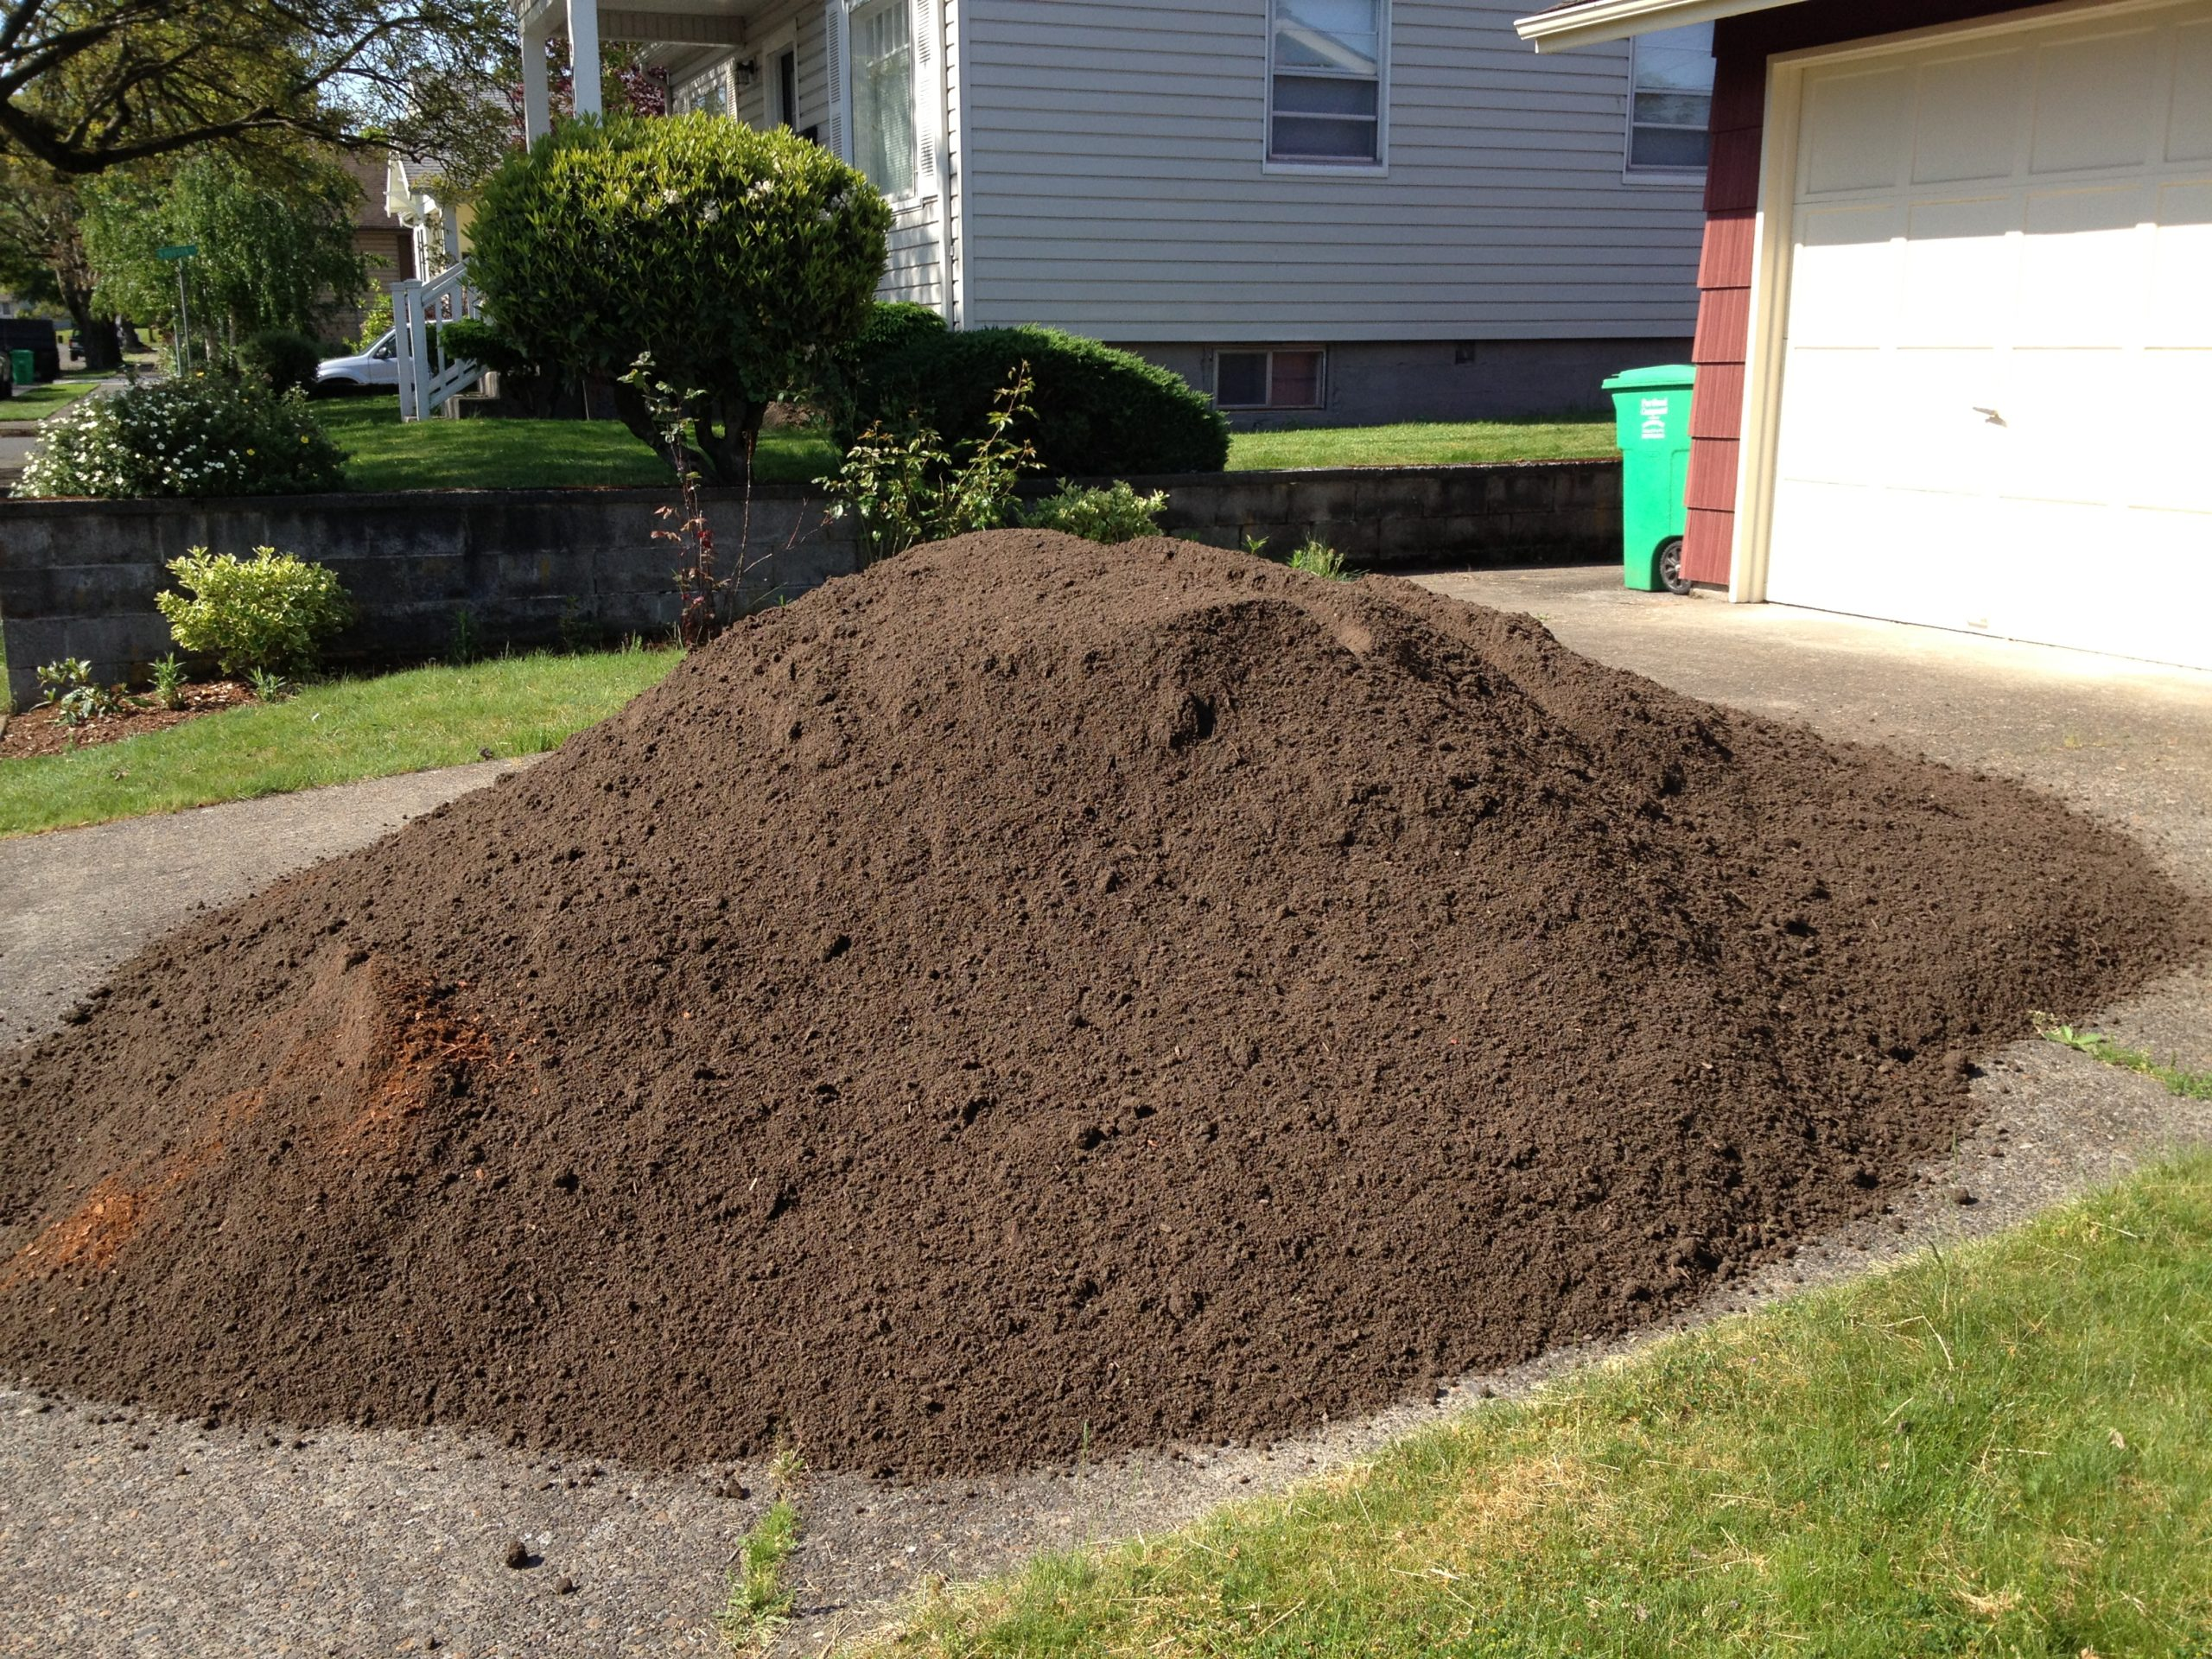dirt: (16, 525, 2158, 1464)
grass: (1740, 1209, 2188, 1647), (1374, 1387, 1728, 1650), (26, 674, 664, 817)
